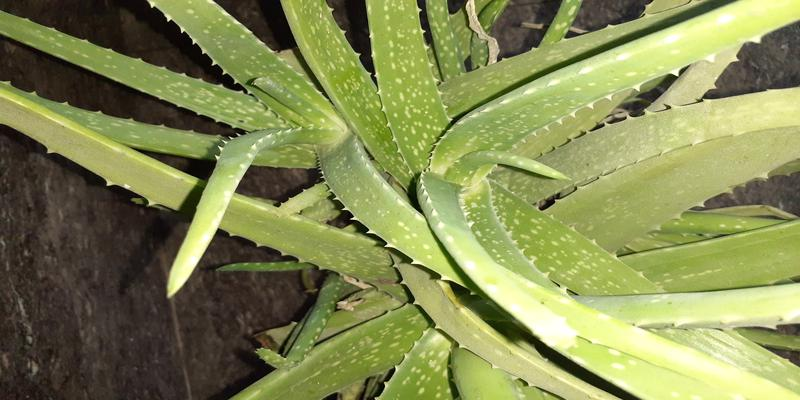Aloevera: (171, 63, 743, 382)
